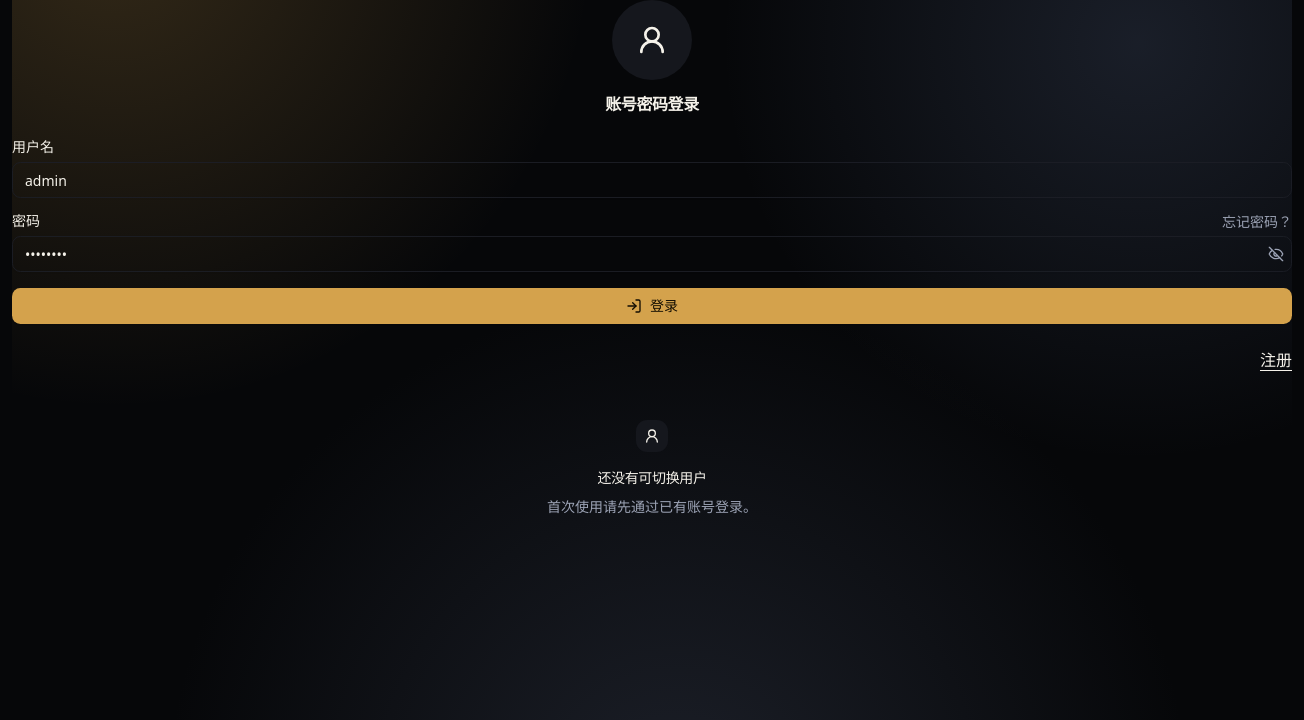
Test case: UserAuthForm › Rendering without redirectTo › shows validation messages when submitting empty form
Clear the field labelled "用户名". click: (652, 180)
box: [12,162,1292,198]
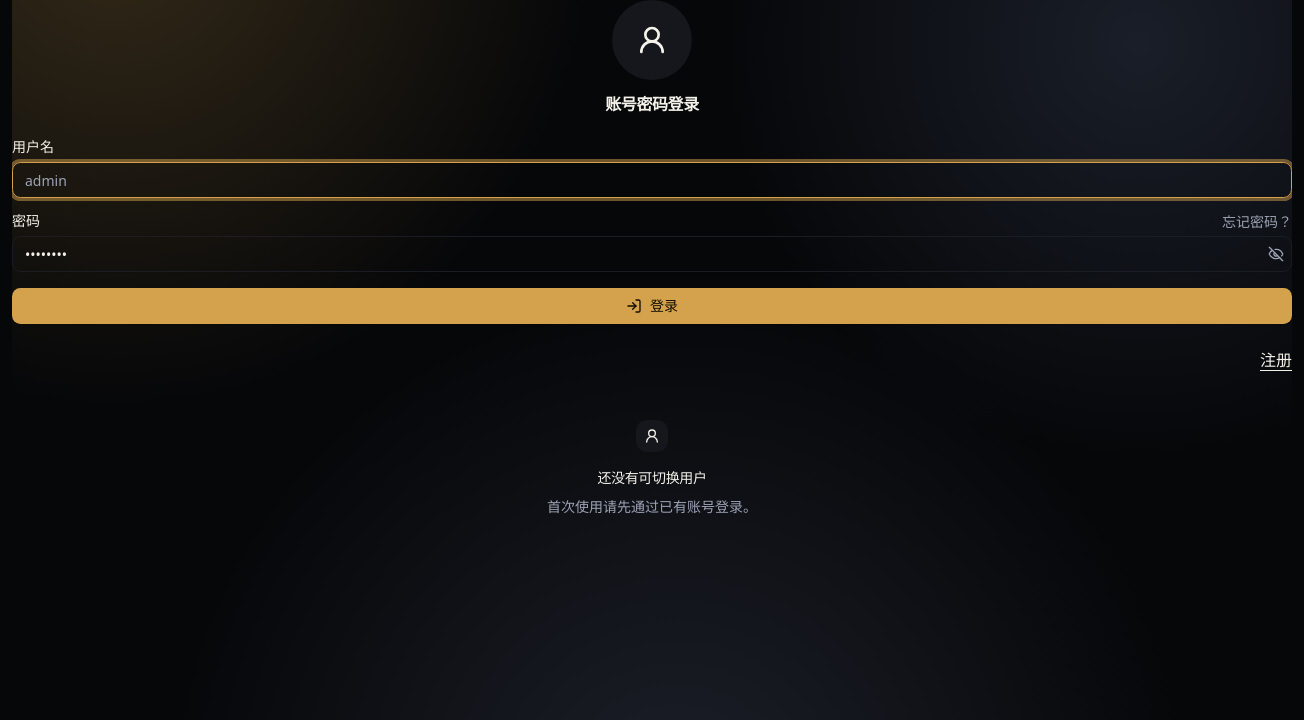
Clear the password field labelled "密码". click: (652, 254)
box: [12,236,1292,272]
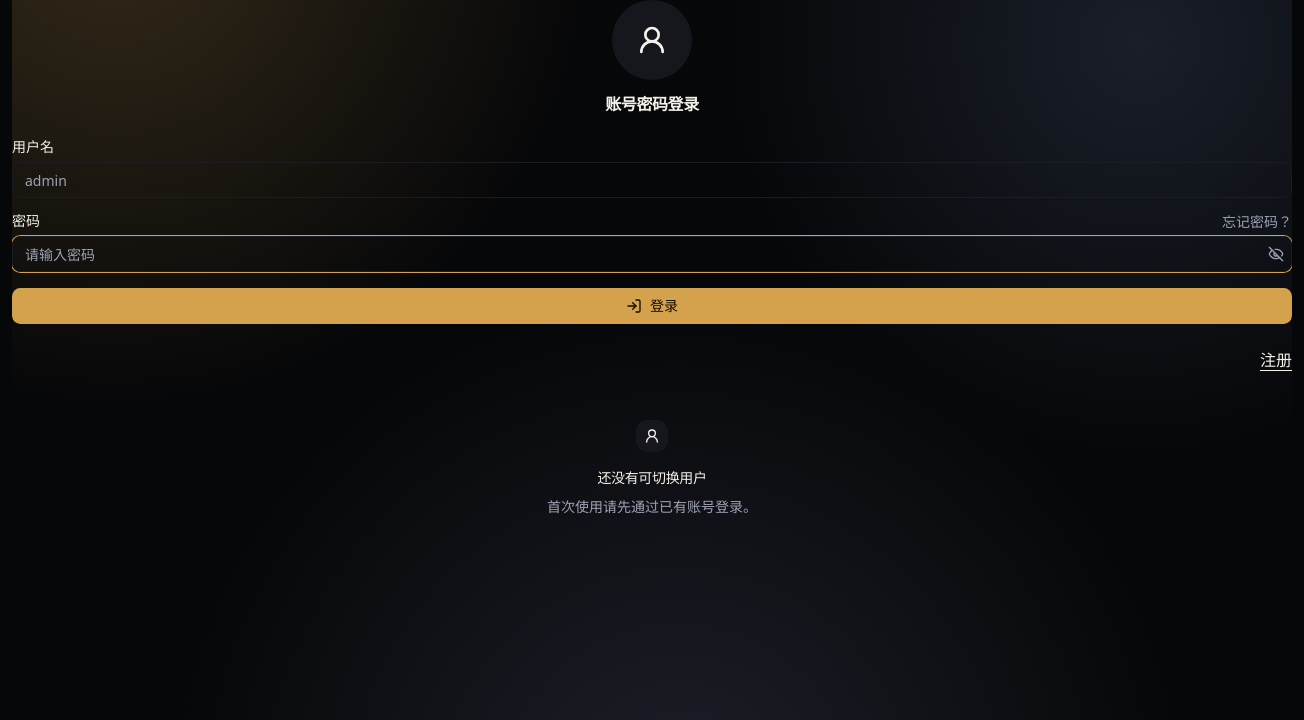
Click the button "登录". click: (652, 306)
box: [12,288,1292,324]
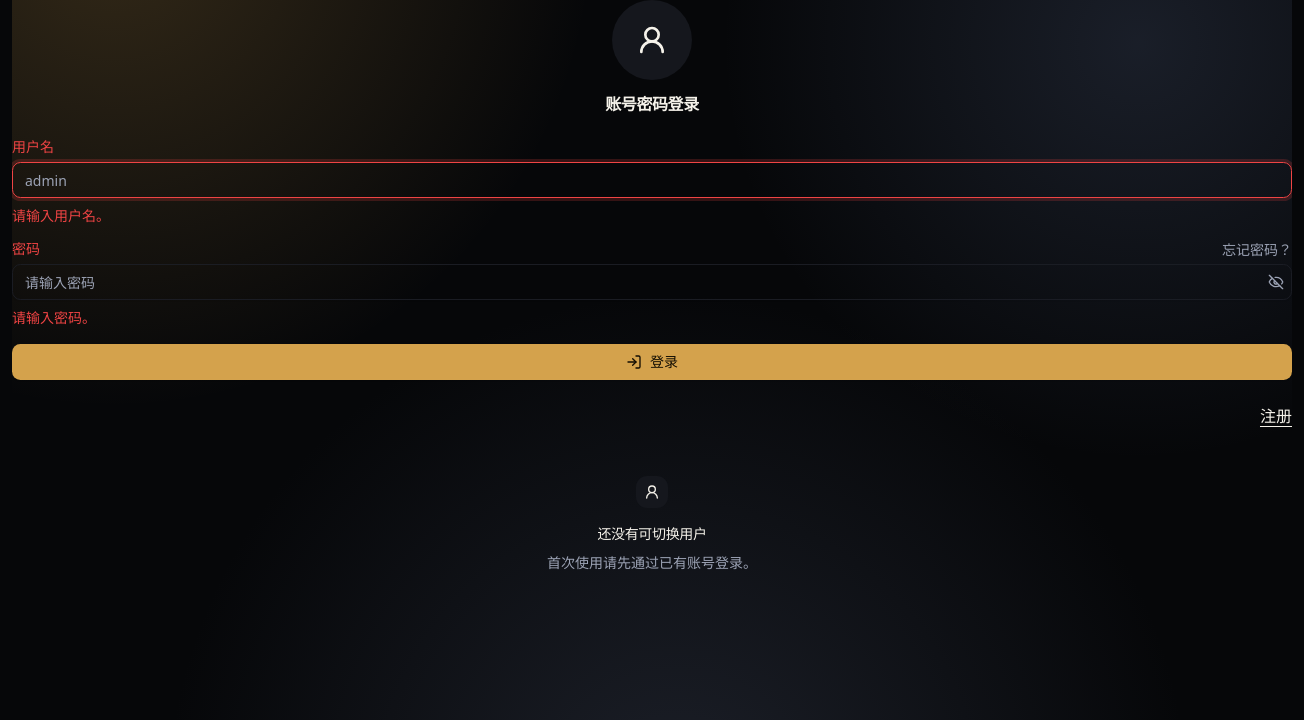
Now the text "请输入用户名。" is shown, box [12,206,110,225]
Now the text "请输入密码。" is shown, box [12,308,96,327]
